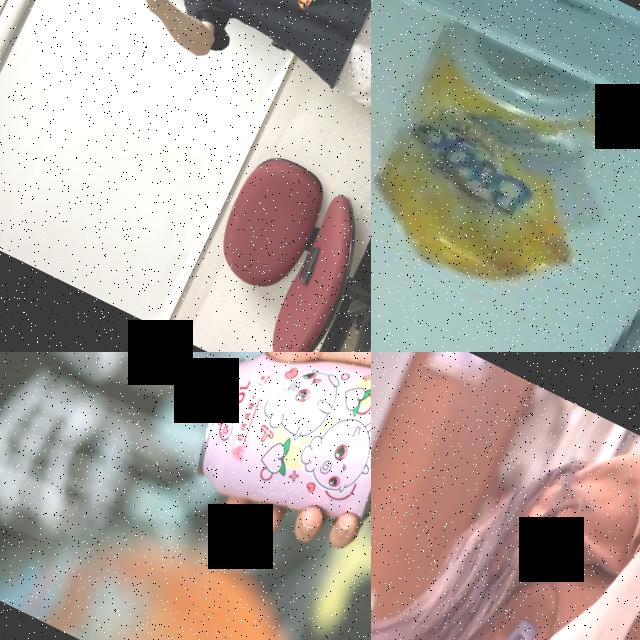bottle: (447, 588, 639, 640)
can: (178, 352, 371, 559)
